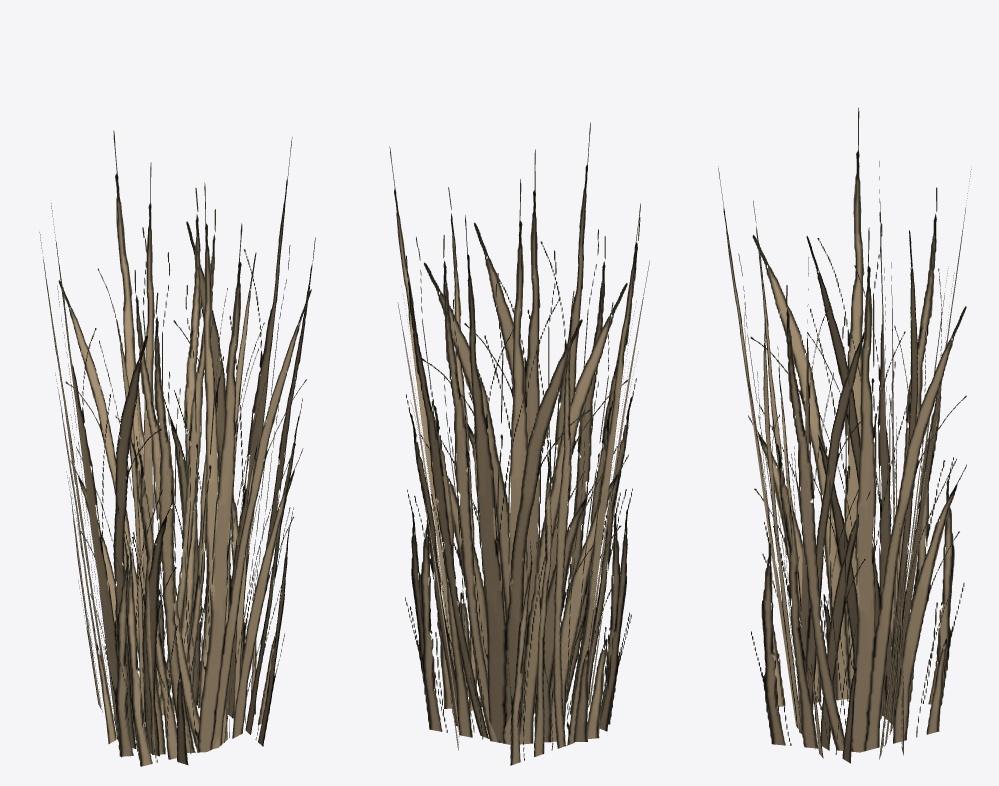
The model's file is Mesh_Environment_Reed_06.fbx.
3 views of the same model, side by side, from view 1: azimuth 30°, elevation 25°; view 2: azimuth 150°, elevation 25°; view 3: azimuth 270°, elevation 25° (orthographic).
Parts seen in each view (by area): view 1: Mesh_Environment_Reed_06; view 2: Mesh_Environment_Reed_06; view 3: Mesh_Environment_Reed_06.
Part boxes in pixels (box(x1,y1,x2,y2)): Mesh_Environment_Reed_06: box(39, 130, 315, 766); Mesh_Environment_Reed_06: box(389, 122, 649, 765); Mesh_Environment_Reed_06: box(718, 107, 971, 763).
Size of the model in its own units: 86.67 by 201 by 78.24.
